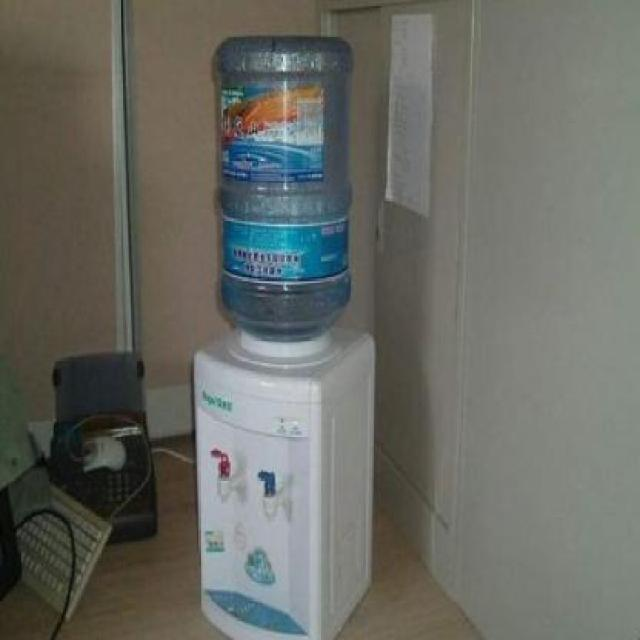cooler: (196, 37, 374, 640)
